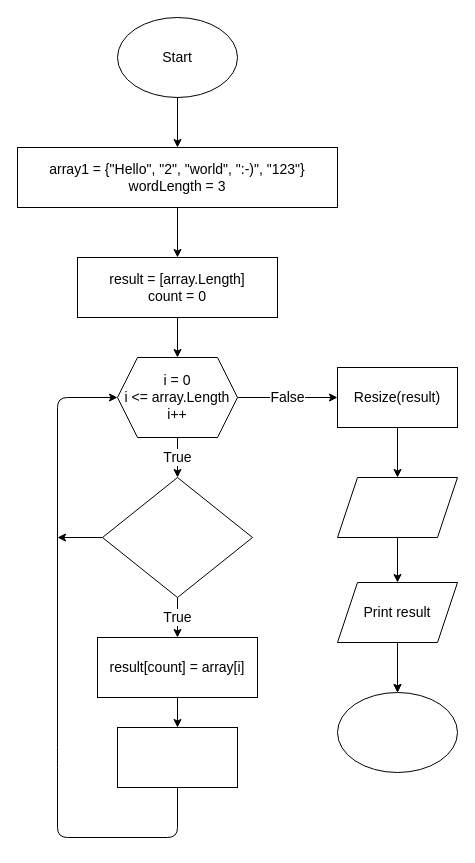
This 475x863 diagram has some shape labels left out. The box of each missing label's shape, as (x1, y1, x2, y2) in pixels:
array[i].Lenth <= worldLength: (102, 476, 252, 598)
count ++: (116, 726, 238, 788)
End: (336, 692, 458, 772)
Print array1: (336, 476, 458, 538)
